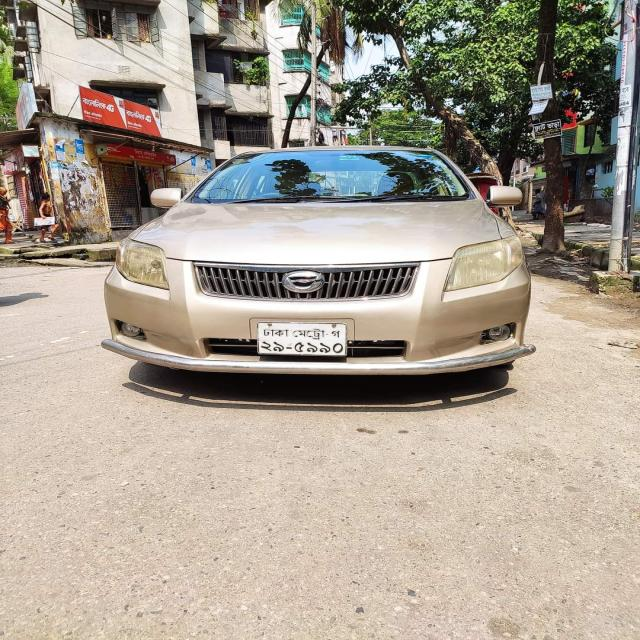silver: (95, 147, 527, 399)
